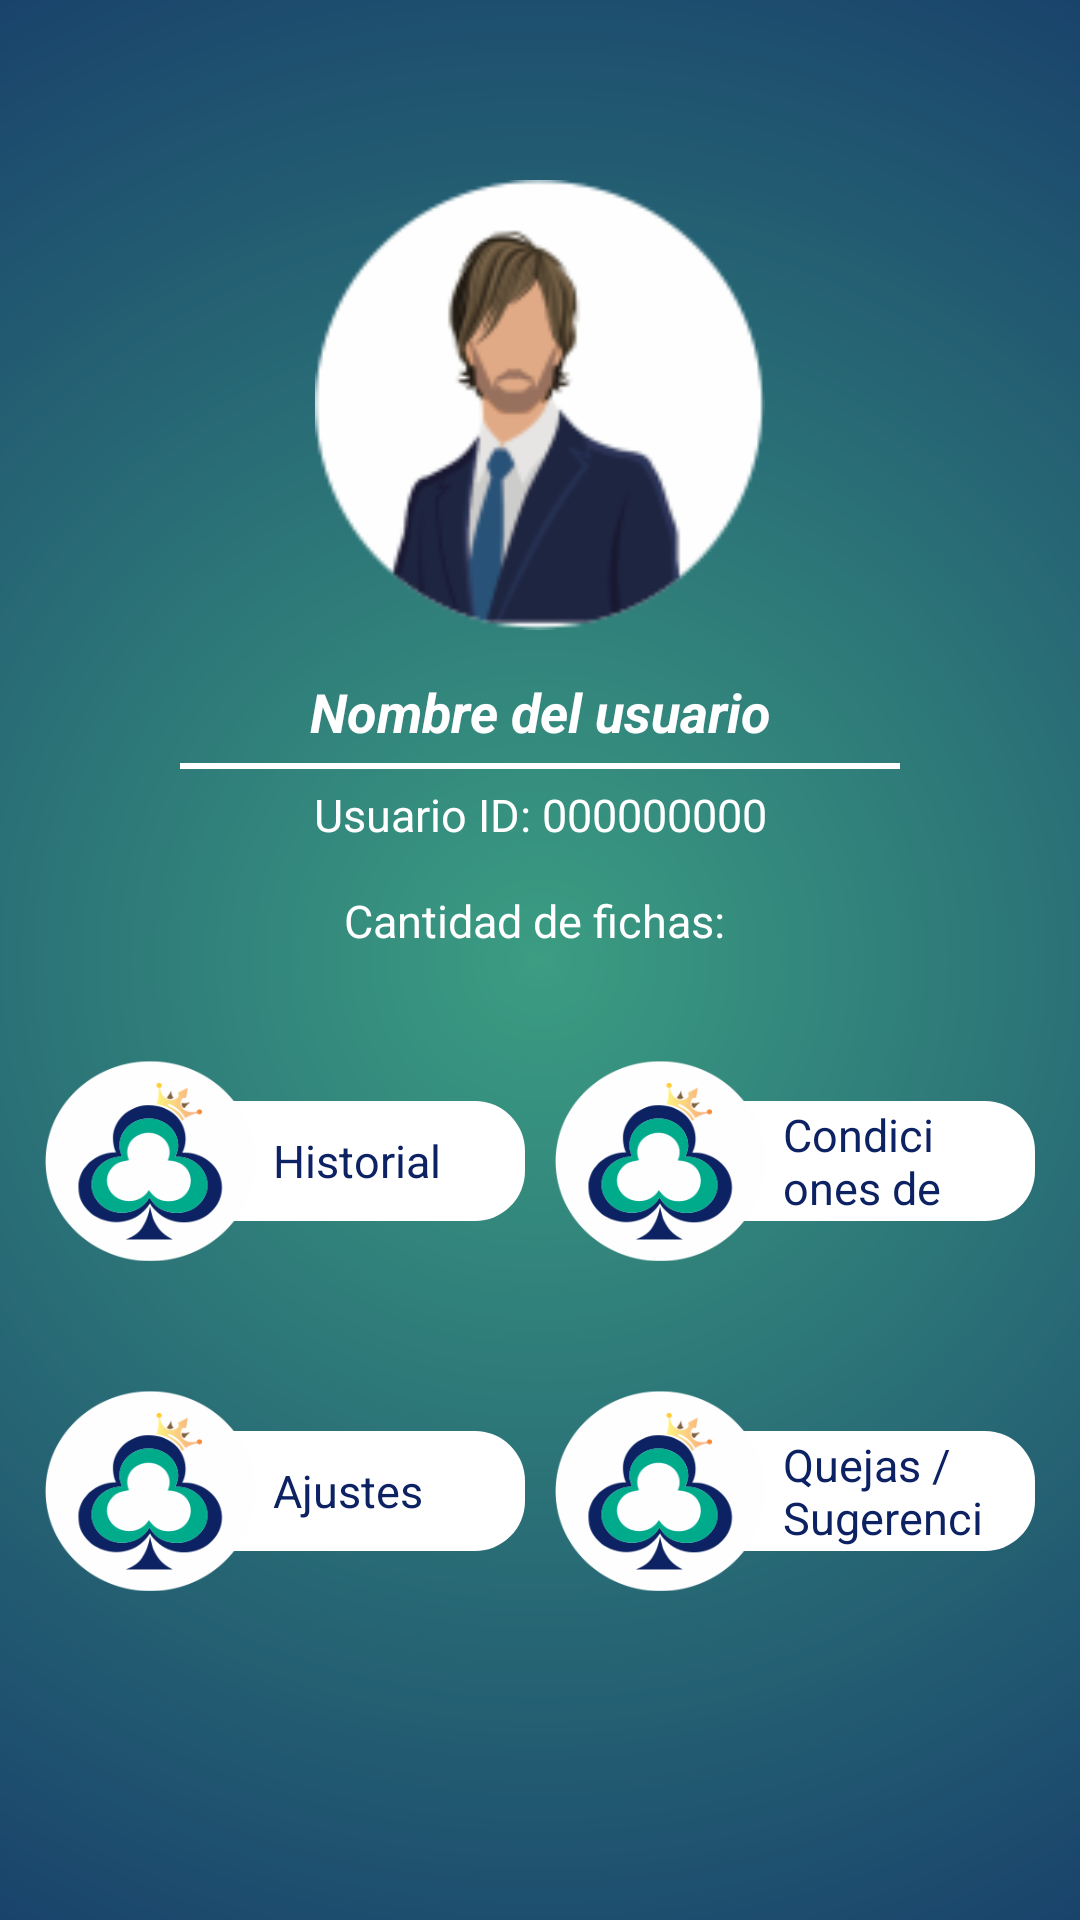

Named icons in this screenshot (1080×1920) and their bounding boxes, (x1, y1, x2, y2):
trebol: (45, 1061, 255, 1261), (555, 1061, 765, 1261), (45, 1391, 255, 1591), (555, 1391, 765, 1591)
